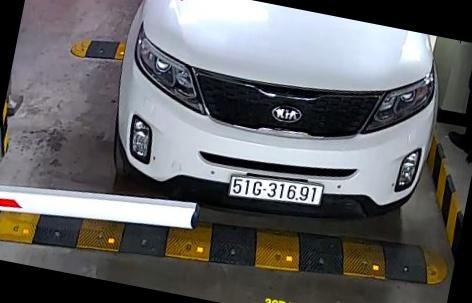plate: (225, 168, 327, 211)
